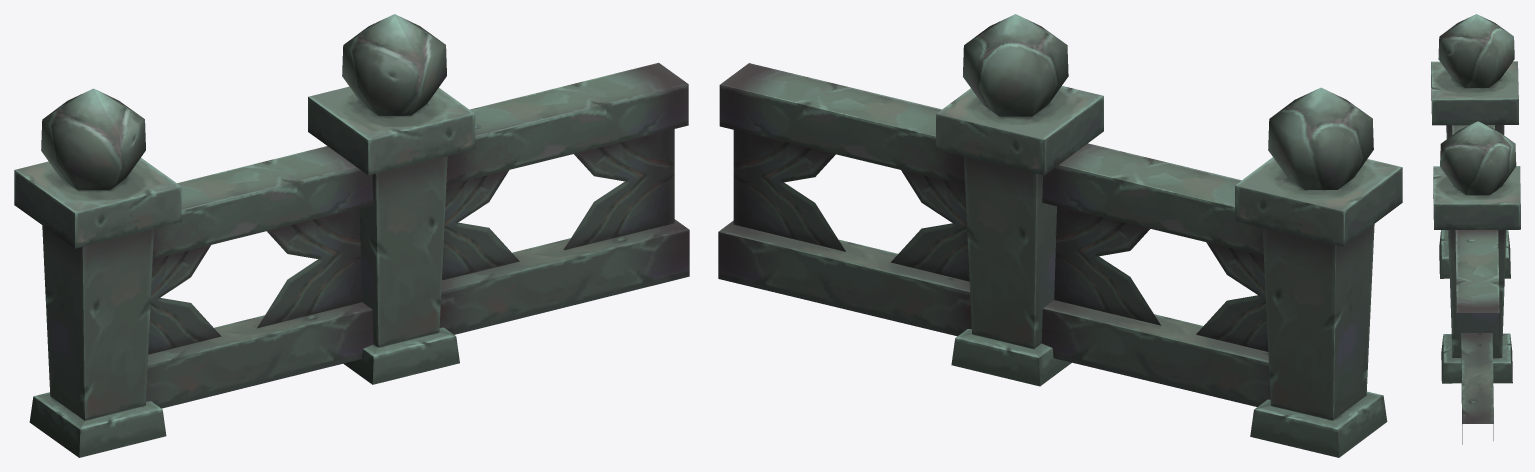
File: fb_plxd_zj_12_e.FBX
3 views of the same model, side by side, from view 1: azimuth 30°, elevation 25°; view 2: azimuth 150°, elevation 25°; view 3: azimuth 270°, elevation 25° (orthographic). The views are drawn at different scales.
Parts seen in each view (by area): view 1: fb_plxd_zj_12_e; view 2: fb_plxd_zj_12_e; view 3: fb_plxd_zj_12_e.
Part boxes in pixels (x1,y1,x2,y2): fb_plxd_zj_12_e: (14, 14, 689, 457); fb_plxd_zj_12_e: (718, 14, 1402, 457); fb_plxd_zj_12_e: (1431, 14, 1520, 444).
Size of the model in its own units: 317 by 162 by 53.17.
